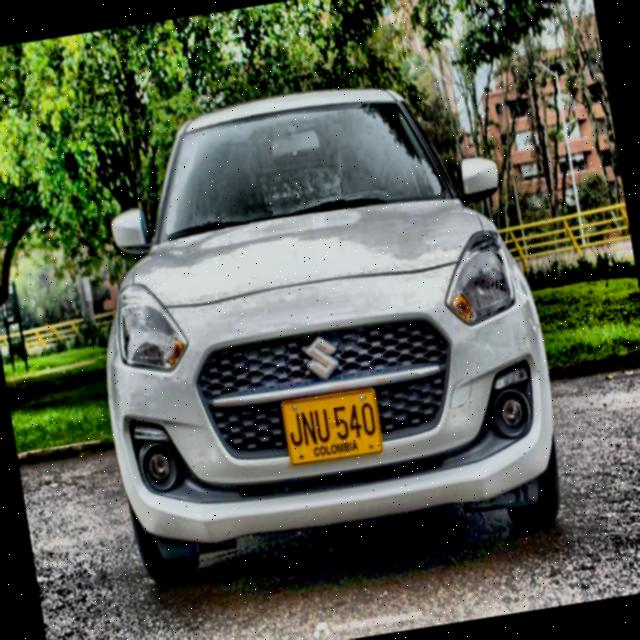0: (359, 400, 378, 438)
4: (346, 403, 364, 440)
5: (333, 404, 351, 442)
J: (286, 412, 304, 448)
N: (300, 408, 319, 448)
U: (314, 408, 332, 444)
